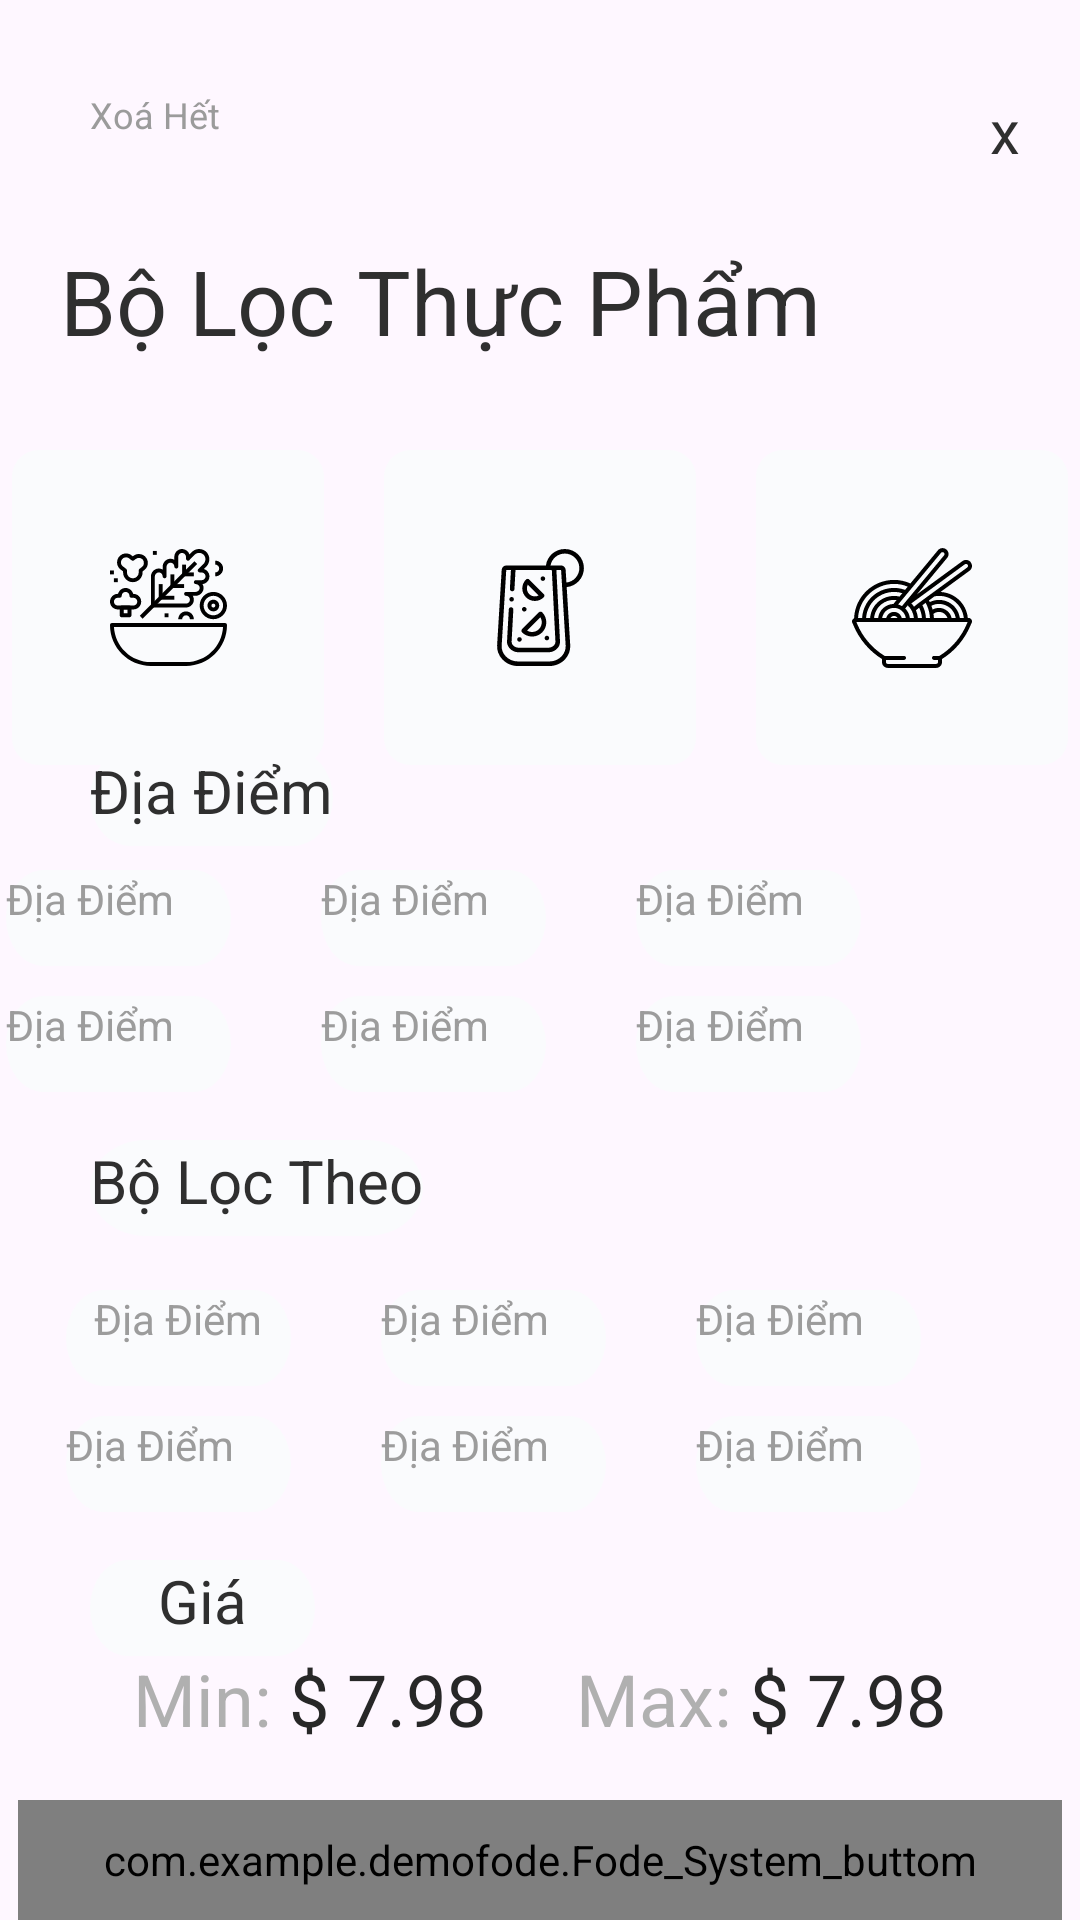

Screen size 1080*1920. Icon name, then its center in pixels as (x,y):
mitom: (912,608)
sangria: (540,607)
